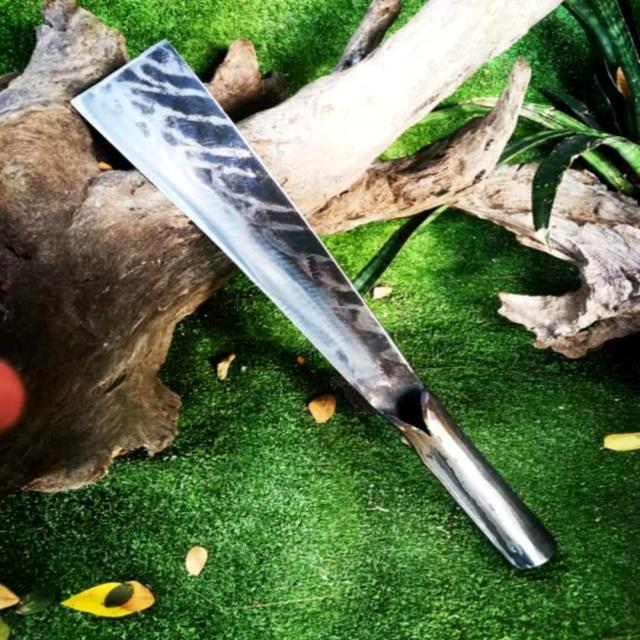eto: (64, 29, 572, 575)
